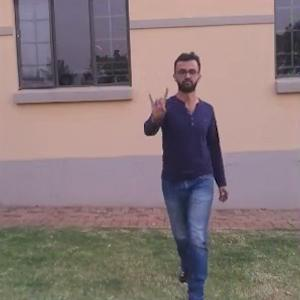takeoff-hand: (145, 85, 176, 126)
